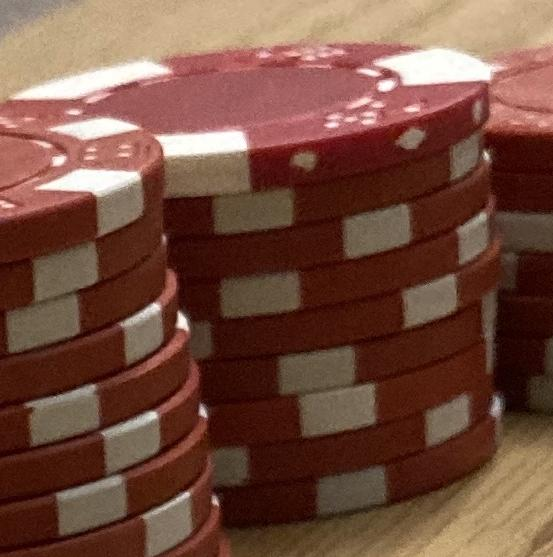Chip: (1, 1, 553, 557)
